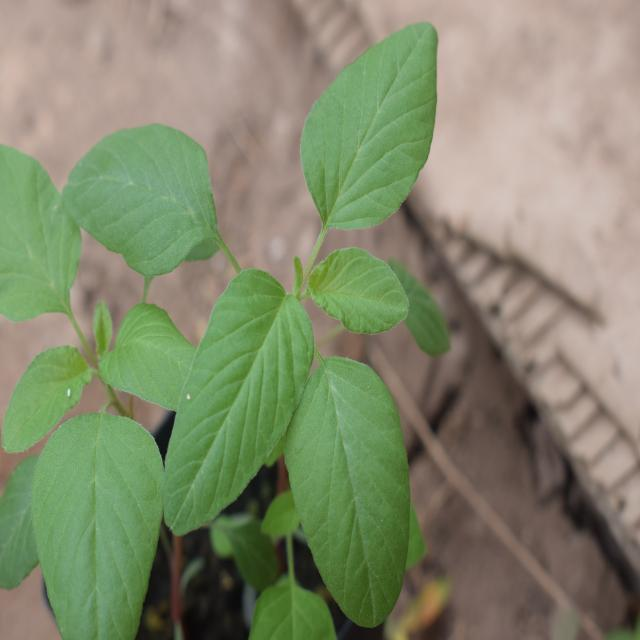pigweed: (79, 25, 448, 567)
